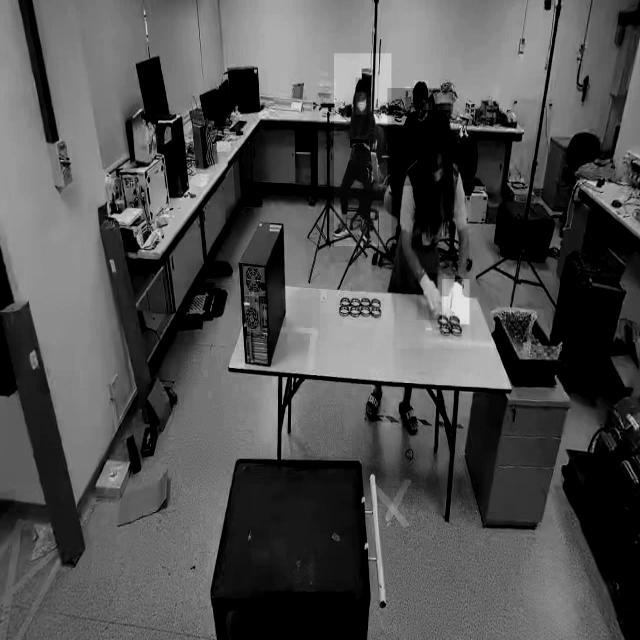face_mask: (429, 158, 447, 188), (356, 92, 366, 114)
face_nomask: (414, 100, 428, 118)
hand_glove: (416, 273, 444, 321), (442, 279, 469, 325)
hand_noglove: (352, 140, 368, 151), (349, 140, 364, 148)
head_nohelmet: (422, 110, 451, 150), (413, 80, 429, 95), (355, 77, 371, 91)
person: (396, 114, 471, 349), (334, 53, 392, 247), (388, 88, 438, 186)
